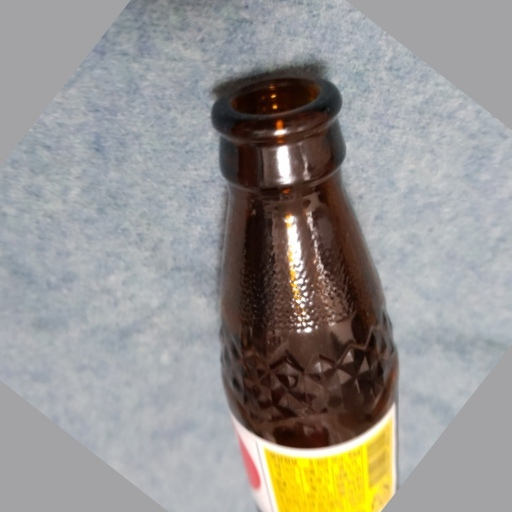Glass_3: (211, 72, 406, 512)
